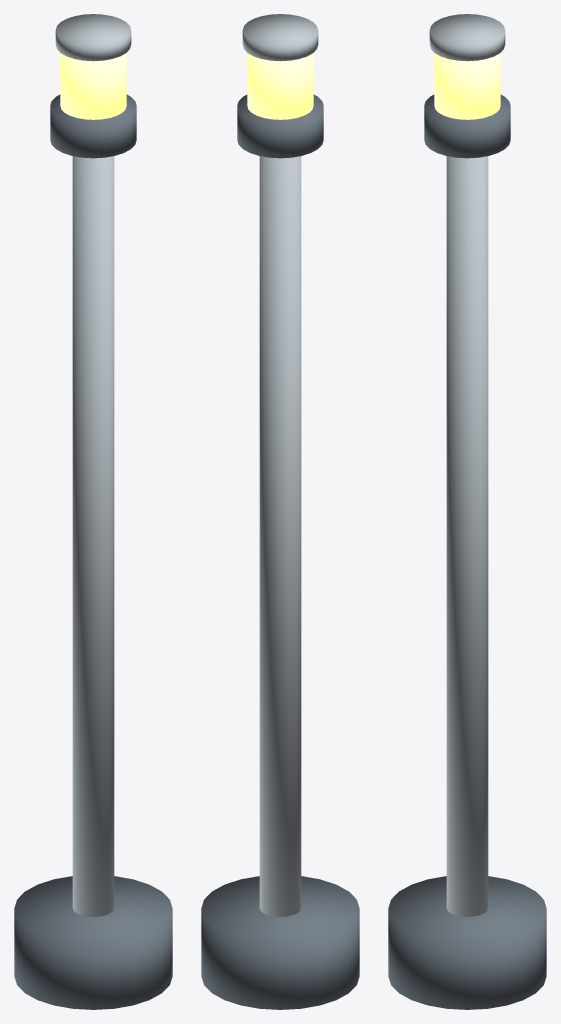
The model's file is signal_tower_enhanced.glb.
3 renders of one model, left to right at view 1: azimuth 30°, elevation 25°; view 2: azimuth 150°, elevation 25°; view 3: azimuth 270°, elevation 25°, orthographic.
Parts seen in each view (by area): view 1: Pole_steel, Base_dark, StatusLight_warn, Beacon_dark, Beacon_steel; view 2: Pole_steel, Base_dark, StatusLight_warn, Beacon_dark, Beacon_steel; view 3: Pole_steel, Base_dark, StatusLight_warn, Beacon_dark, Beacon_steel.
Part boxes in pixels (<box>): Pole_steel: <box>72,156,114,916</box>; Base_dark: <box>14,876,172,1009</box>; StatusLight_warn: <box>60,53,126,119</box>; Beacon_dark: <box>50,94,136,158</box>; Beacon_steel: <box>55,14,131,61</box>; Pole_steel: <box>259,156,301,916</box>; Base_dark: <box>201,876,359,1009</box>; StatusLight_warn: <box>247,53,313,119</box>; Beacon_dark: <box>237,94,323,158</box>; Beacon_steel: <box>242,14,318,61</box>; Pole_steel: <box>446,156,488,916</box>; Base_dark: <box>388,876,546,1009</box>; StatusLight_warn: <box>434,53,500,119</box>; Beacon_dark: <box>424,94,510,158</box>; Beacon_steel: <box>429,14,505,61</box>.
Size of the model in its own units: 0.42 by 2.77 by 0.42.
